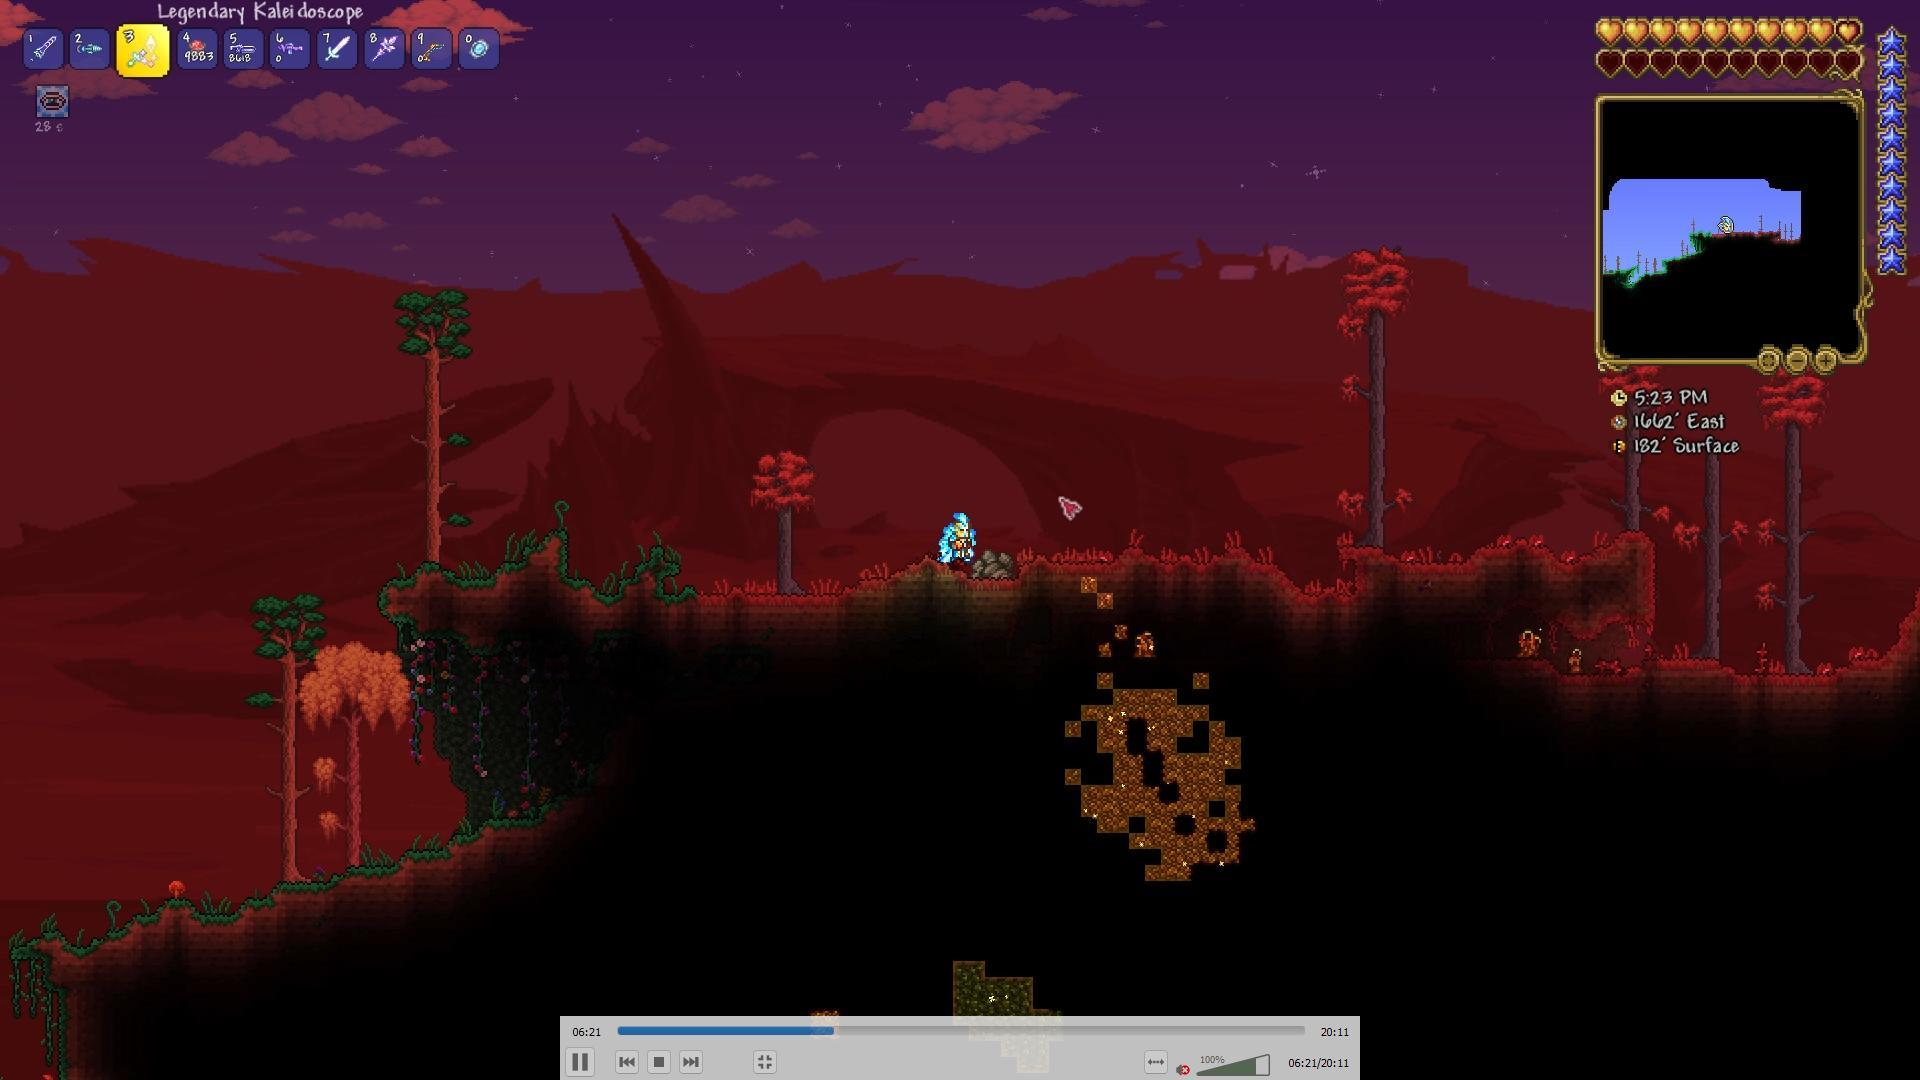crimstone: (1709, 671, 1782, 702), (1611, 608, 1655, 647), (1015, 549, 1065, 580), (1784, 673, 1836, 703), (1335, 543, 1379, 578), (1658, 665, 1708, 695), (1166, 546, 1225, 571), (1536, 542, 1585, 572), (1476, 542, 1526, 571), (1625, 530, 1659, 571), (1622, 665, 1660, 699), (1556, 617, 1609, 641), (936, 558, 981, 583), (1226, 553, 1278, 574), (1594, 534, 1635, 560), (1120, 545, 1164, 568), (845, 575, 881, 604), (799, 589, 848, 611), (1435, 556, 1473, 583), (1635, 572, 1662, 611), (1279, 585, 1321, 609), (1391, 558, 1429, 583), (1072, 553, 1113, 575), (881, 564, 927, 584), (699, 588, 732, 608), (762, 592, 799, 608), (732, 587, 761, 607)
mirror: (469, 37, 489, 58)
